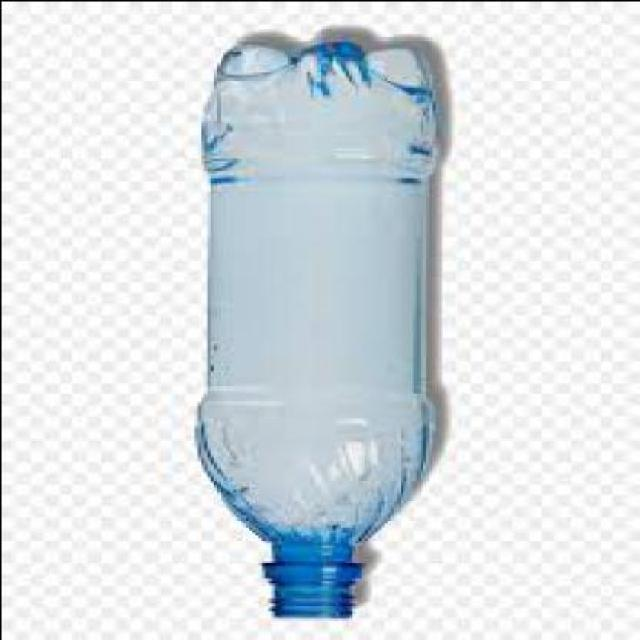PLASTIC: (190, 41, 441, 619)
